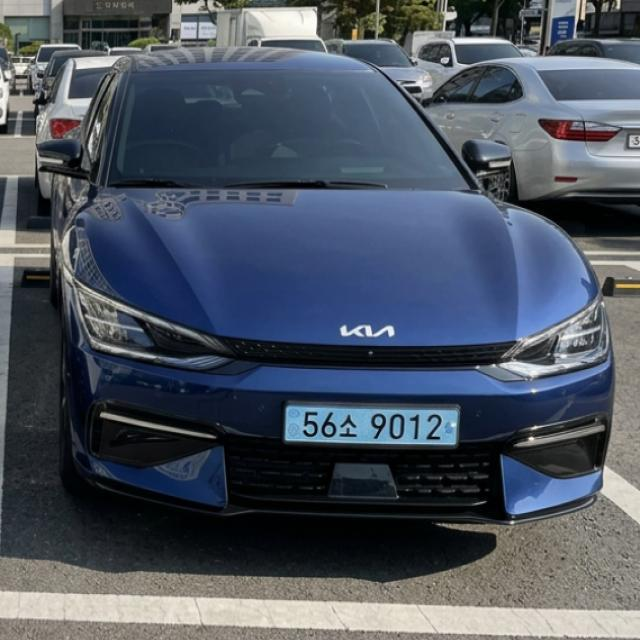car: (262, 393, 482, 463)
carev: (282, 402, 302, 442), (443, 404, 460, 448)
